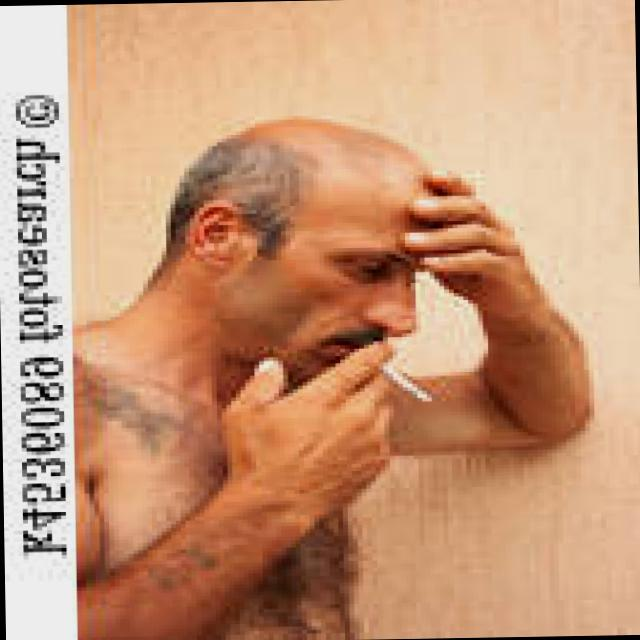smoke: (380, 361, 436, 418)
